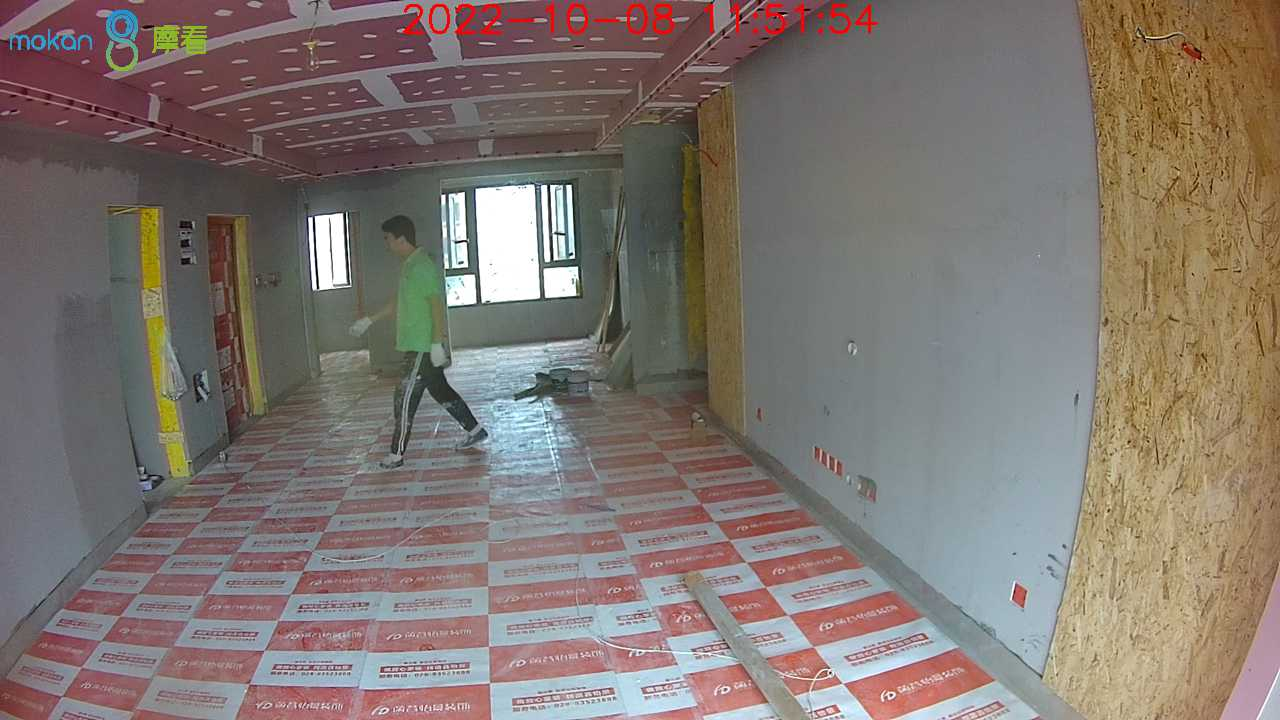people: (347, 216, 489, 467)
window: (441, 182, 578, 306)
